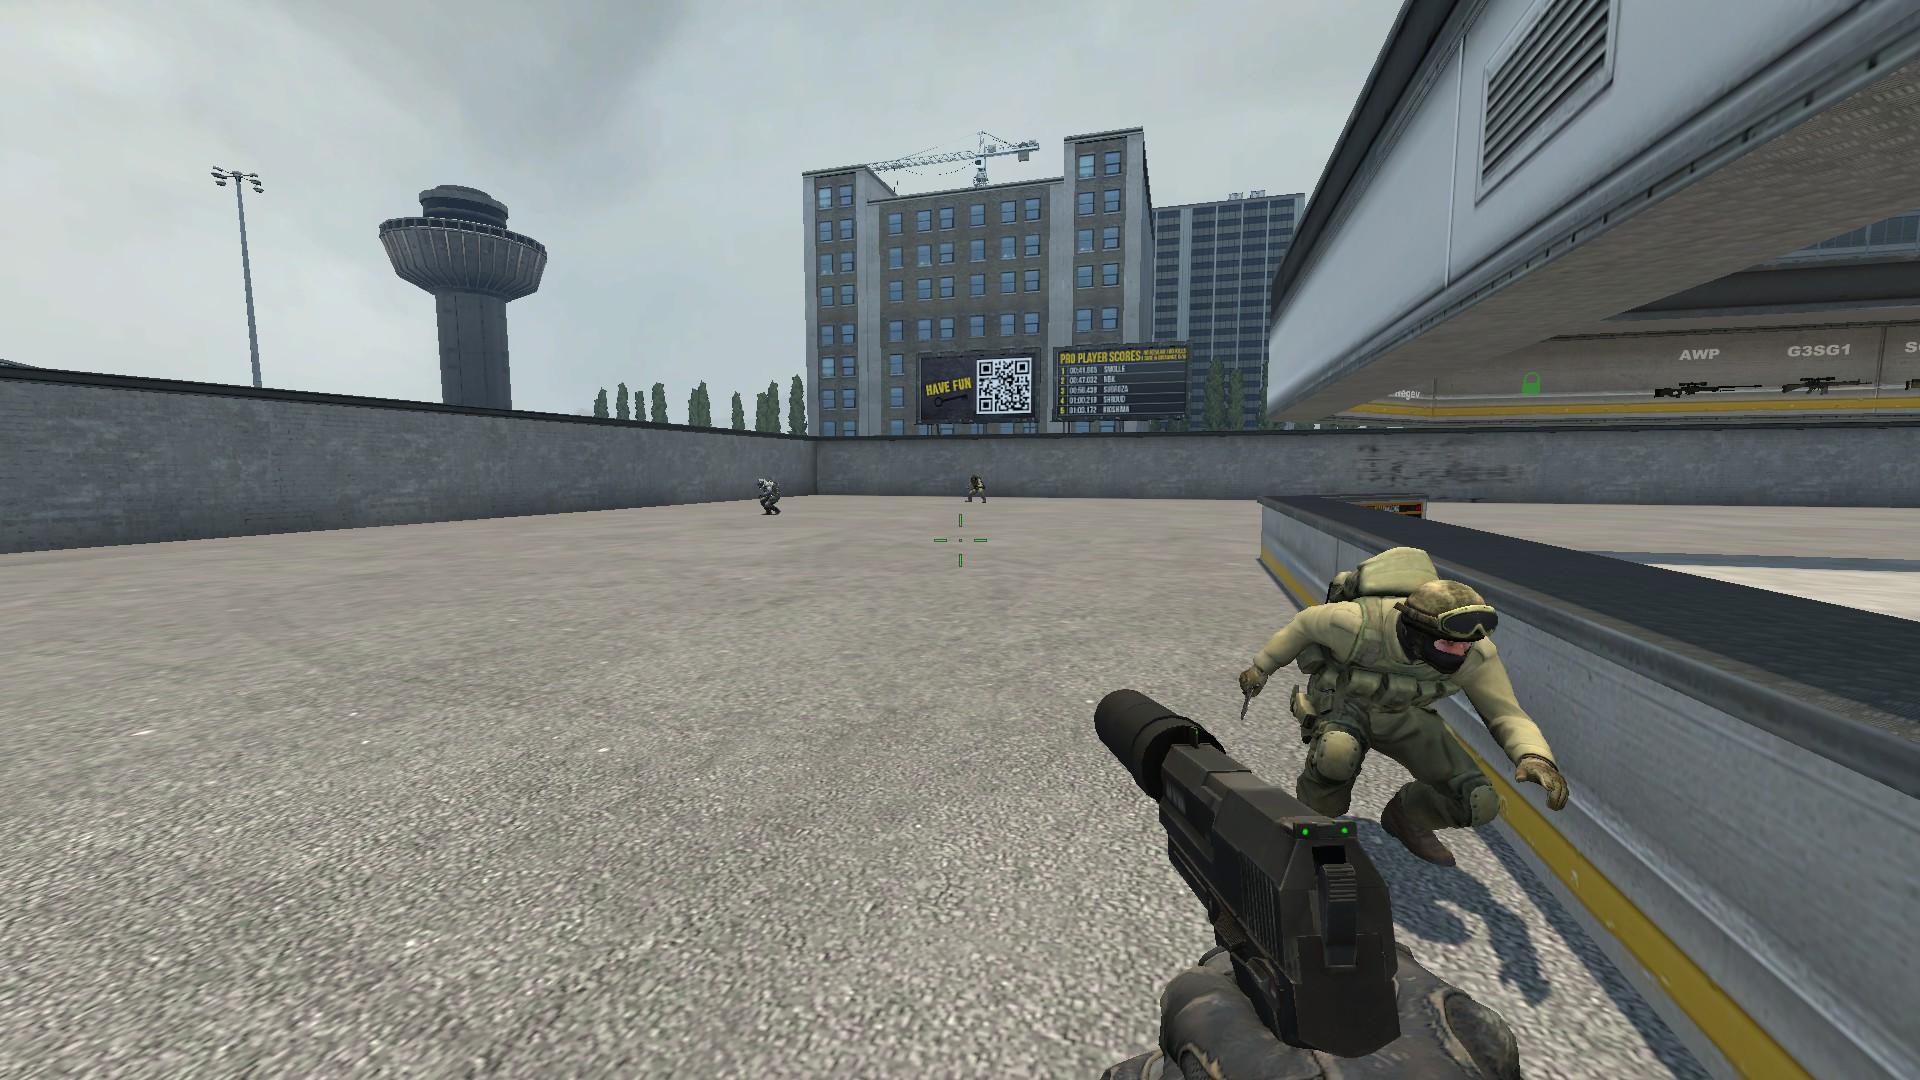ct: (1229, 541, 1571, 874)
ct head: (1390, 574, 1501, 684)
